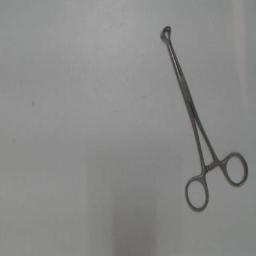Babcock Tissue Forceps: (158, 22, 254, 216)
